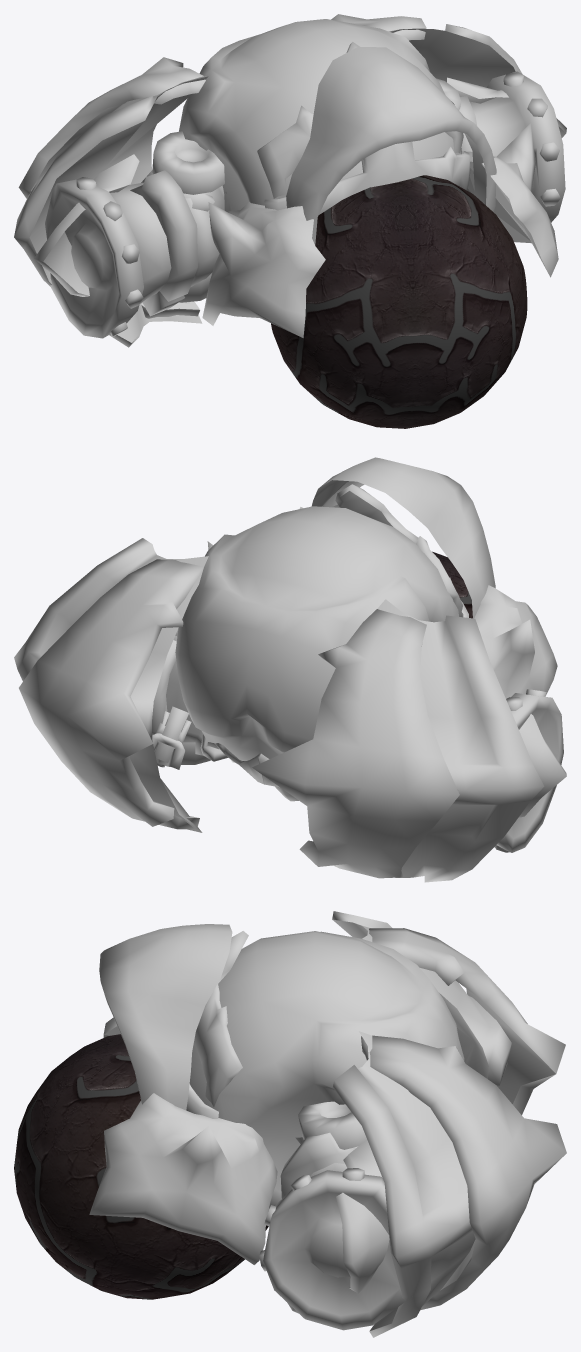
The picture shows the model from 3 angles, top to bottom: view 1: azimuth 30°, elevation 25°; view 2: azimuth 150°, elevation 25°; view 3: azimuth 270°, elevation 25°; orthographic projection. The views are drawn at different scales.
Parts seen in each view (by area): view 1: ironreaver01; view 2: ironreaver01; view 3: ironreaver01.
Part boxes in pixels (x1,y1,x2,y2): ironreaver01: (14, 14, 566, 428); ironreaver01: (14, 457, 566, 882); ironreaver01: (14, 911, 566, 1337).
Size of the model in its own units: 1.55 by 0.95 by 1.33.
